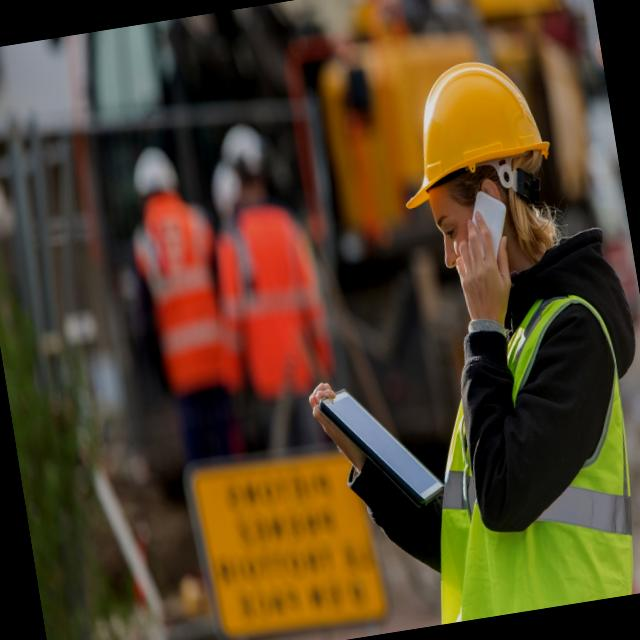goggles: (408, 175, 502, 262)
helmet: (377, 44, 567, 221)
vest: (375, 276, 640, 625)
